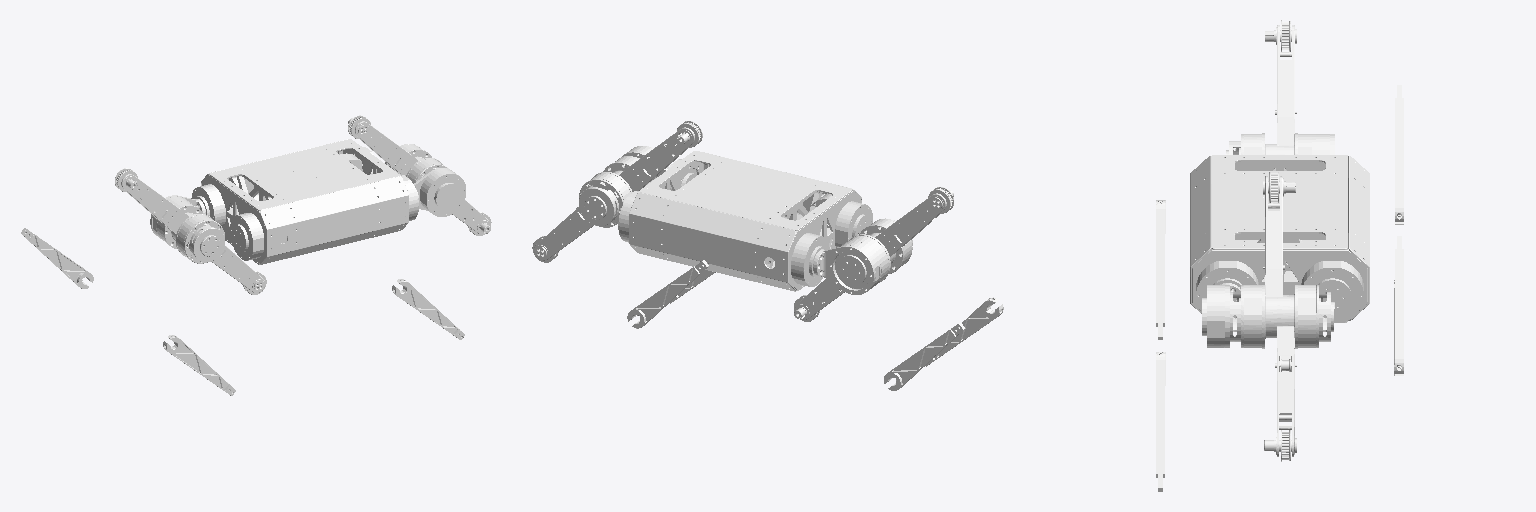
URDF robot description (mdoger7):
<?xml version="1.0" encoding="utf-8"?>
<!-- This URDF was automatically created by SolidWorks to URDF Exporter! Originally created by [author] ([email redacted]) 
     Commit Version: 1.6.0-4-g7f85cfe  Build Version: 1.6.7995.38578
     For more information, please see http://wiki.ros.org/sw_urdf_exporter -->
<robot
  name="mdoger7">
  <link
    name="base_link">
    <contact>
          <lateral_friction value = "1"/>
    </contact>
    <inertial>
      <origin
        xyz="0.0001010646354054 -1.44903716982059E-05 0.0496563682052012"
        rpy="0 0 0" />
      <mass
        value="3.08231799893906" />
      <inertia
        ixx="0.00926650722814916"
        ixy="-3.62169040276762E-07"
        ixz="1.968110159689E-11"
        iyy="0.00876227124364807"
        iyz="-2.21509418983156E-06"
        izz="0.014243547976584" />
    </inertial>
    <visual>
      <origin
        xyz="0 0 0"
        rpy="0 0 0" />
      <geometry>
        <mesh
          filename="package://mdoger7/meshes/base_link.STL" />
      </geometry>
      <material
        name="">
        <color
          rgba="1 1 1 1" />
      </material>
    </visual>
    <collision>
      <origin
        xyz="0 0 0"
        rpy="0 0 0" />
      <geometry>
        <mesh
          filename="package://mdoger7/meshes/base_link.STL" />
      </geometry>
    </collision>
  </link>
  <link
    name="lf1">
   <contact>
          <lateral_friction value = "1"/>
   </contact>
    <inertial>
      <origin
        xyz="-0.0151637299755341 1.75014758606318E-05 -0.064140604721273"
        rpy="0 0 0" />
      <mass
        value="0.278302034656967" />
      <inertia
        ixx="0.00032196729273197"
        ixy="-1.47281760990052E-07"
        ixz="7.3702765706139E-13"
        iyy="0.000194181718975337"
        iyz="1.22324917731508E-12"
        izz="0.0001674886453552" />
    </inertial>
    <visual>
      <origin
        xyz="0 0 0"
        rpy="0 0 0" />
      <geometry>
        <mesh
          filename="package://mdoger7/meshes/lf1.STL" />
      </geometry>
      <material
        name="">
        <color
          rgba="1 1 1 1" /> 
      </material>
    </visual>
    <collision>
      <origin
        xyz="0 0 0"
        rpy="0 0 0" />
      <geometry>
        <mesh
          filename="package://mdoger7/meshes/lf1.STL" />
      </geometry>
    </collision>
  </link>
  <joint
    name="lf1_joint"
    type="continuous">
    <origin
      xyz="0.2043 0.08 0.05825"
      rpy="-1.5708 0.0011541 1.5708" />
    <parent
      link="base_link" />
    <child
      link="lf1" />
    <axis
      xyz="0 0 1" />
    <limit
      lower="-3.14"
      upper="3.14"
      effort="100"
      velocity="100" />
  </joint>
  <link
    name="lf2">
 <contact>
          <lateral_friction value = "1"/>
    </contact>
    <inertial>
      <origin
        xyz="-0.0209420236370367 -0.0208032252416819 -0.045894208725074"
        rpy="0 0 0" />
      <mass
        value="0.444479146815381" />
      <inertia
        ixx="0.00026829245198987"
        ixy="-4.77036845770594E-05"
        ixz="-2.13716322869677E-06"
        iyy="0.000270682074177794"
        iyz="-2.12152106708105E-06"
        izz="0.000472626321065816" />
    </inertial>
    <visual>
      <origin
        xyz="0 0 0"
        rpy="0 0 0" />
      <geometry>
        <mesh
          filename="package://mdoger7/meshes/lf2.STL" />
      </geometry>
      <material
        name="">
        <color
          rgba="1 1 1 1" />
      </material>
    </visual>
    <collision>
      <origin
        xyz="0 0 0"
        rpy="0 0 0" />
      <geometry>
        <mesh
          filename="package://mdoger7/meshes/lf2.STL" />
      </geometry>
    </collision>
  </link>
  <joint
    name="lf2_joint"
    type="continuous">
    <origin
      xyz="0.0031 0 -0.069"
      rpy="3.1404 1.5708 0" />
    <parent
      link="lf1" />
    <child
      link="lf2" />
    <axis
      xyz="0 0 1" />
    <limit
      lower="-3.14"
      upper="3.14"
      effort="100"
      velocity="100" />
  </joint>
  <link
    name="lf3">
 <contact>
          <lateral_friction value = "1"/>
    </contact>
    <inertial>
      <origin
        xyz="0.0951881658908742 0.0951821207261651 9.60842788749749E-06"
        rpy="0 0 0" />
      <mass
        value="0.0675377262682892" />
      <inertia
        ixx="8.81321775814089E-05"
        ixy="-7.86245523358521E-05"
        ixz="5.90456583906145E-09"
        iyy="8.84353154783548E-05"
        iyz="7.00680263637514E-09"
        izz="0.000169813891149621" />
    </inertial>
    <visual>
      <origin
        xyz="0 0 0"
        rpy="0 0 0" />
      <geometry>
        <mesh
          filename="package://mdoger7/meshes/lf3.STL" />
      </geometry>
      <material
        name="">
        <color
          rgba="1 1 1 1" />
      </material>
    </visual>
    <collision>
      <origin
        xyz="0 0 0"
        rpy="0 0 0" />
      <geometry>
        <mesh
          filename="package://mdoger7/meshes/lf3.STL" />
      </geometry>
    </collision>
  </link>
  <joint
    name="lf3_joint"
    type="continuous">
    <origin
      xyz="-0.14849 -0.14849 -0.0993"
      rpy="3.1416 0 0" />
    <parent
      link="lf2" />
    <child
      link="lf3" />
    <axis
      xyz="0 0 -1" />
    <limit
      lower="-3.14"
      upper="3.14"
      effort="100"
      velocity="100" />
  </joint>
  
  
  
  <link
    name="rf1">
 <contact>
          <lateral_friction value = "1"/>
    </contact>
    <inertial>
      <origin
        xyz="0.015163729740363 -1.75006511684006E-05 -0.0641406047212723"
        rpy="0 0 0" />
      <mass
        value="0.278302034656966" />
      <inertia
        ixx="0.000321967292731969"
        ixy="-1.47281760991181E-07"
        ixz="7.37027613515436E-13"
        iyy="0.000194181718975336"
        iyz="1.22324933440187E-12"
        izz="0.0001674886453552" />
    </inertial>
    <visual>
      <origin
        xyz="0 0 0"
        rpy="0 0 0" />
      <geometry>
        <mesh
          filename="package://mdoger7/meshes/rf1.STL" />
      </geometry>
      <material
        name="">
        <color
          rgba="1 1 1 1" />
      </material>
    </visual>
    <collision>
      <origin
        xyz="0 0 0"
        rpy="0 0 0" />
      <geometry>
        <mesh
          filename="package://mdoger7/meshes/rf1.STL" />
      </geometry>
    </collision>
  </link>
  <joint
    name="rf1_joint"
    type="continuous">
    <origin
      xyz="0.2043 -0.08 0.05825"
      rpy="-1.5708 0.0011541 1.5708" />
    <parent
      link="base_link" />
    <child
      link="rf1" />
    <axis
      xyz="0 0 1" />
    <limit
      lower="-3.14"
      upper="3.14"
      effort="100"
      velocity="100" />
  </joint>
  <link
    name="rf2">
 <contact>
          <lateral_friction value = "1"/>
    </contact>
    <inertial>
      <origin
        xyz="-0.0209407848214778 0.0208018615715731 -0.0495059917942707"
        rpy="0 0 0" />
      <mass
        value="0.444477705439595" />
      <inertia
        ixx="0.000268250988703257"
        ixy="4.76650858942124E-05"
        ixz="-2.13198040079686E-06"
        iyy="0.000270642477084771"
        iyz="2.11639554561677E-06"
        izz="0.000472544588515103" />
    </inertial>
    <visual>
      <origin
        xyz="0 0 0"
        rpy="0 0 0" />
      <geometry>
        <mesh
          filename="package://mdoger7/meshes/rf2.STL" />
      </geometry>
      <material
        name="">
        <color
          rgba="1 1 1 1" />
      </material>
    </visual>
    <collision>
      <origin
        xyz="0 0 0"
        rpy="0 0 0" />
      <geometry>
        <mesh
          filename="package://mdoger7/meshes/rf2.STL" />
      </geometry>
    </collision>
  </link>
  <joint
    name="rf2_joint"
    type="continuous">
    <origin
      xyz="-0.0031 0 -0.069"
      rpy="0.0011541 1.5708 0" />
    <parent
      link="rf1" />
    <child
      link="rf2" />
    <axis
      xyz="0 0 1" />
    <limit
      lower="-3.14"
      upper="3.14"
      effort="100"
      velocity="100" />
  </joint>
  <link
    name="rf3">
 <contact>
          <lateral_friction value = "1"/>
    </contact>
    <inertial>
      <origin
        xyz="0.0951819937807815 -0.0951882401253786 -0.000100252089426767"
        rpy="0 0 0" />
      <mass
        value="0.0675377265651493" />
      <inertia
        ixx="8.84355252436357E-05"
        ixy="7.86244916307677E-05"
        ixz="9.77505001615339E-08"
        iyy="8.81320906399492E-05"
        iyz="-1.0017676981397E-07"
        izz="0.000169813769085874" />
    </inertial>
    <visual>
      <origin
        xyz="0 0 0"
        rpy="0 0 0" />
      <geometry>
        <mesh
          filename="package://mdoger7/meshes/rf3.STL" />
      </geometry>
      <material
        name="">
        <color
          rgba="1 1 1 1" />
      </material>
    </visual>
    <collision>
      <origin
        xyz="0 0 0"
        rpy="0 0 0" />
      <geometry>
        <mesh
          filename="package://mdoger7/meshes/rf3.STL" />
      </geometry>
    </collision>
  </link>
  <joint
    name="rf3_joint"
    type="continuous">
    <origin
      xyz="-0.14849 0.14849 -0.0993"
      rpy="3.1404 0 0" />
    <parent
      link="rf2" />
    <child
      link="rf3" />
    <axis
      xyz="0 0.0011541 -1" />
    <limit
      lower="-3.14"
      upper="3.14"
      effort="100"
      velocity="100" />
  </joint>

  
  

  <link
    name="lb1">
 <contact>
          <lateral_friction value = "1"/>
    </contact>
    <inertial>
      <origin
        xyz="-0.0151637299765069 -1.75006514495438E-05 -0.064140604721273"
        rpy="0 0 0" />
      <mass
        value="0.278302034656966" />
      <inertia
        ixx="0.000321967291804758"
        ixy="1.4768344959992E-07"
        ixz="7.34203157755173E-13"
        iyy="0.000194181719902547"
        iyz="1.22494735617097E-12"
        izz="0.0001674886453552" />
    </inertial>
    <visual>
      <origin
        xyz="0 0 0"
        rpy="0 0 0" />
      <geometry>
        <mesh
          filename="package://mdoger7/meshes/lb1.STL" />
      </geometry>
      <material
        name="">
        <color
          rgba="1 1 1 1" />
      </material>
    </visual>
    <collision>
      <origin
        xyz="0 0 0"
        rpy="0 0 0" />
      <geometry>
        <mesh
          filename="package://mdoger7/meshes/lb1.STL" />
      </geometry>
    </collision>
  </link>
  <joint
    name="lb1_joint"
    type="continuous">
    <origin
      xyz="-0.2043 0.08 0.05825"
      rpy="1.5708 0.0011541 1.5708" />
    <parent
      link="base_link" />
    <child
      link="lb1" />
    <axis
      xyz="0 0 1" />
    <limit
      lower="-3.14"
      upper="3.14"
      effort="100"
      velocity="100" />
  </joint>
  <link
    name="lb2">
 <contact>
          <lateral_friction value = "1"/>
    </contact>
    <inertial>
      <origin
        xyz="0.0208048461352753 0.0208557628465853 -0.0494922931941535"
        rpy="0 0 0" />
      <mass
        value="0.444331812401217" />
      <inertia
        ixx="0.00026974606749508"
        ixy="-4.77036914407743E-05"
        ixz="2.13716761698061E-06"
        iyy="0.000269216418831657"
        iyz="2.1215254628276E-06"
        izz="0.000472614490483167" />
    </inertial>
    <visual>
      <origin
        xyz="0 0 0"
        rpy="0 0 0" />
      <geometry>
        <mesh
          filename="package://mdoger7/meshes/lb2.STL" />
      </geometry>
      <material
        name="">
        <color
          rgba="1 1 1 1" />
      </material>
    </visual>
    <collision>
      <origin
        xyz="0 0 0"
        rpy="0 0 0" />
      <geometry>
        <mesh
          filename="package://mdoger7/meshes/lb2.STL" />
      </geometry>
    </collision>
  </link>
  <joint
    name="lb2_joint"
    type="continuous">
    <origin
      xyz="0.0031 0 -0.069"
      rpy="3.1404 1.5708 0" />
    <parent
      link="lb1" />
    <child
      link="lb2" />
    <axis
      xyz="0 0 1" />
    <limit
      lower="-3.14"
      upper="3.14"
      effort="100"
      velocity="100" />
  </joint>
  <link
    name="lb3">
 <contact>
          <lateral_friction value = "1"/>
    </contact>
    <inertial>
      <origin
        xyz="0.0951881845717944 0.095182101818491 -1.33146198698642E-05"
        rpy="0 0 0" />
      <mass
        value="0.0675377264543488" />
      <inertia
        ixx="8.81320554193421E-05"
        ixy="-7.86245522493566E-05"
        ixz="-4.72302543602649E-09"
        iyy="8.8435437928186E-05"
        iyz="-3.62074413021887E-09"
        izz="0.000169813891423586" />
    </inertial>
    <visual>
      <origin
        xyz="0 0 0"
        rpy="0 0 0" />
      <geometry>
        <mesh
          filename="package://mdoger7/meshes/lb3.STL" />
      </geometry>
      <material
        name="">
        <color
          rgba="1 1 1 1" />
      </material>
    </visual>
    <collision>
      <origin
        xyz="0 0 0"
        rpy="0 0 0" />
      <geometry>
        <mesh
          filename="package://mdoger7/meshes/lb3.STL" />
      </geometry>
    </collision>
  </link>
  <joint
    name="lb3_joint"
    type="continuous">
    <origin
      xyz="0.14849 0.14849 -0.0993"
      rpy="3.1416 0 -3.1416" />
    <parent
      link="lb2" />
    <child
      link="lb3" />
    <axis
      xyz="0 0 -1" />
    <limit
      lower="-3.14"
      upper="3.14"
      effort="100"
      velocity="100" />
  </joint>
  
  <link
    name="rb1">
 <contact>
          <lateral_friction value = "1"/>
 </contact>
    <inertial>
      <origin
        xyz="0.0151637398392296 4.12067463484433E-10 -0.0641406047212974"
        rpy="0 0 0" />
      <mass
        value="0.278302034656966" />
      <inertia
        ixx="0.000321967462483901"
        ixy="2.00844838901847E-10"
        ixz="7.3562111595188E-13"
        iyy="0.000194181549223405"
        iyz="1.22409922902118E-12"
        izz="0.0001674886453552" />
    </inertial>
    <visual>
      <origin
        xyz="0 0 0"
        rpy="0 0 0" />
      <geometry>
        <mesh
          filename="package://mdoger7/meshes/rb1.STL" />
      </geometry>
      <material
        name="">
        <color
          rgba="1 1 1 1" />
      </material>
    </visual>
    <collision>
      <origin
        xyz="0 0 0"
        rpy="0 0 0" />
      <geometry>
        <mesh
          filename="package://mdoger7/meshes/rb1.STL" />
      </geometry>
    </collision>
  </link>
  <joint
    name="rb1_joint"
    type="continuous">
    <origin
      xyz="-0.2043 -0.08 0.05825"
      rpy="1.5708 0 1.5708" />
    <parent
      link="base_link" />
    <child
      link="rb1" />
    <axis
      xyz="0 0 1" />
    <limit
      lower="-3.14"
      upper="3.14"
      effort="100"
      velocity="100" />
  </joint>
  <link
    name="rb2">
 <contact>
          <lateral_friction value = "1"/>
 </contact>
    <inertial>
      <origin
        xyz="0.0207464746325403 -0.0207794945944038 -0.0494755469353061"
        rpy="0 0 0" />
      <mass
        value="0.444100714371199" />
      <inertia
        ixx="0.000268961409564988"
        ixy="4.83949011486247E-05"
        ixz="2.13197669078382E-06"
        iyy="0.000269893257620922"
        iyz="-2.11639158214857E-06"
        izz="0.000472506041221308" />
    </inertial>
    <visual>
      <origin
        xyz="0 0 0"
        rpy="0 0 0" />
      <geometry>
        <mesh
          filename="package://mdoger7/meshes/rb2.STL" />
      </geometry>
      <material
        name="">
        <color
          rgba="1 1 1 1" />
      </material>
    </visual>
    <collision>
      <origin
        xyz="0 0 0"
        rpy="0 0 0" />
      <geometry>
        <mesh
          filename="package://mdoger7/meshes/rb2.STL" />
      </geometry>
    </collision>
  </link>
  <joint
    name="rb2_joint"
    type="continuous">
    <origin
      xyz="-0.0031 0 -0.069"
      rpy="0 1.5708 0" />
    <parent
      link="rb1" />
    <child
      link="rb2" />
    <axis
      xyz="0 0 1" />
    <limit
      lower="-3.14"
      upper="3.14"
      effort="100"
      velocity="100" />
  </joint>
  <link
    name="rb3">
 <contact>
          <lateral_friction value = "1"/>
 </contact>
    <inertial>
      <origin
        xyz="0.0951881213406118 -0.0951821173153637 -9.65388383854515E-05"
        rpy="0 0 0" />
      <mass
        value="0.0675377263163792" />
      <inertia
        ixx="8.81321600885773E-05"
        ixy="7.86244945210139E-05"
        ixz="9.54666743433398E-08"
        iyy="8.84354497422735E-05"
        iyz="-9.75428378587097E-08"
        izz="0.000169813774393313" />
    </inertial>
    <visual>
      <origin
        xyz="0 0 0"
        rpy="0 0 0" />
      <geometry>
        <mesh
          filename="package://mdoger7/meshes/rb3.STL" />
      </geometry>
      <material
        name="">
        <color
          rgba="1 1 1 1" />
      </material>
    </visual>
    <collision>
      <origin
        xyz="0 0 0"
        rpy="0 0 0" />
      <geometry>
        <mesh
          filename="package://mdoger7/meshes/rb3.STL" />
      </geometry>
    </collision>
  </link>
  <joint
    name="rb3_joint"
    type="continuous">
    <origin
      xyz="0.14849 -0.14849 -0.0993"
      rpy="3.1404 0 3.1416" />
    <parent
      link="rb2" />
    <child
      link="rb3" />
    <axis
      xyz="0 0.0011541 -1" />
    <limit
      lower="-3.14"
      upper="3.14"
      effort="0"
      velocity="0" />
  </joint>

 
</robot>

--- What the picture shows (computed from the rendered views, not written in the file) ---
Views: 3 orthographic renders of the robot side by side, from view 1: azimuth 30°, elevation 25°; view 2: azimuth 150°, elevation 25°; view 3: azimuth 270°, elevation 25°.
Model mdoger7 with 13 links and 12 joints (12 continuous), rooted at base_link, posed all joints at 0.
Visible links, largest first — view 1: base_link, rb2, lb2, rf2, rf1, rf3, lb3, rb3, lf2; view 2: base_link, lf2, lb2, rf2, lb1, rb2, lf3, lb3, rb3; view 3: base_link, lf2, rf2, lb2, rf1, lf3, rb3, rf3, lb3, rb2.
Link boxes in pixels (x1=…): base_link: x1=191, y1=139, x2=418, y2=264; rb2: x1=176, y1=214, x2=266, y2=294; lb2: x1=115, y1=168, x2=202, y2=248; rf2: x1=348, y1=115, x2=448, y2=183; rf1: x1=414, y1=168, x2=465, y2=216; rf3: x1=392, y1=279, x2=464, y2=339; lb3: x1=21, y1=228, x2=93, y2=288; rb3: x1=163, y1=335, x2=235, y2=395; lf2: x1=385, y1=144, x2=491, y2=235; base_link: x1=618, y1=151, x2=872, y2=291; lf2: x1=532, y1=172, x2=632, y2=262; lb2: x1=835, y1=187, x2=953, y2=288; rf2: x1=603, y1=121, x2=702, y2=191; lb1: x1=813, y1=240, x2=881, y2=294; rb2: x1=794, y1=218, x2=912, y2=321; lf3: x1=627, y1=260, x2=708, y2=328; lb3: x1=884, y1=322, x2=965, y2=390; rb3: x1=926, y1=297, x2=1003, y2=366; base_link: x1=1190, y1=155, x2=1369, y2=322; lf2: x1=1264, y1=285, x2=1334, y2=461; rf2: x1=1230, y1=172, x2=1295, y2=348; lb2: x1=1265, y1=20, x2=1315, y2=170; rf1: x1=1202, y1=283, x2=1240, y2=347; lf3: x1=1394, y1=236, x2=1403, y2=375; rb3: x1=1156, y1=200, x2=1165, y2=339; rf3: x1=1156, y1=352, x2=1165, y2=491; lb3: x1=1395, y1=85, x2=1403, y2=224; rb2: x1=1226, y1=133, x2=1282, y2=170.
Size in the robot's own frame: 1.02 by 0.38 by 0.4711 metres.
13 mesh visuals loaded from 13 distinct referenced files (13 binary STL).
